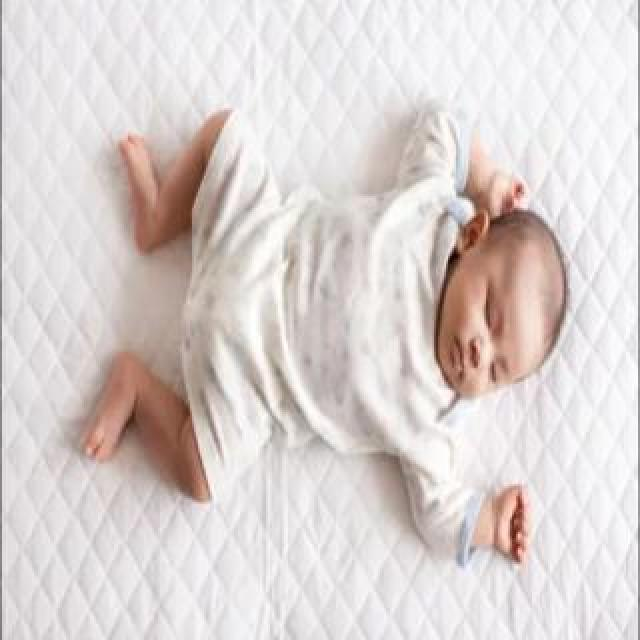baby: (88, 108, 564, 568)
